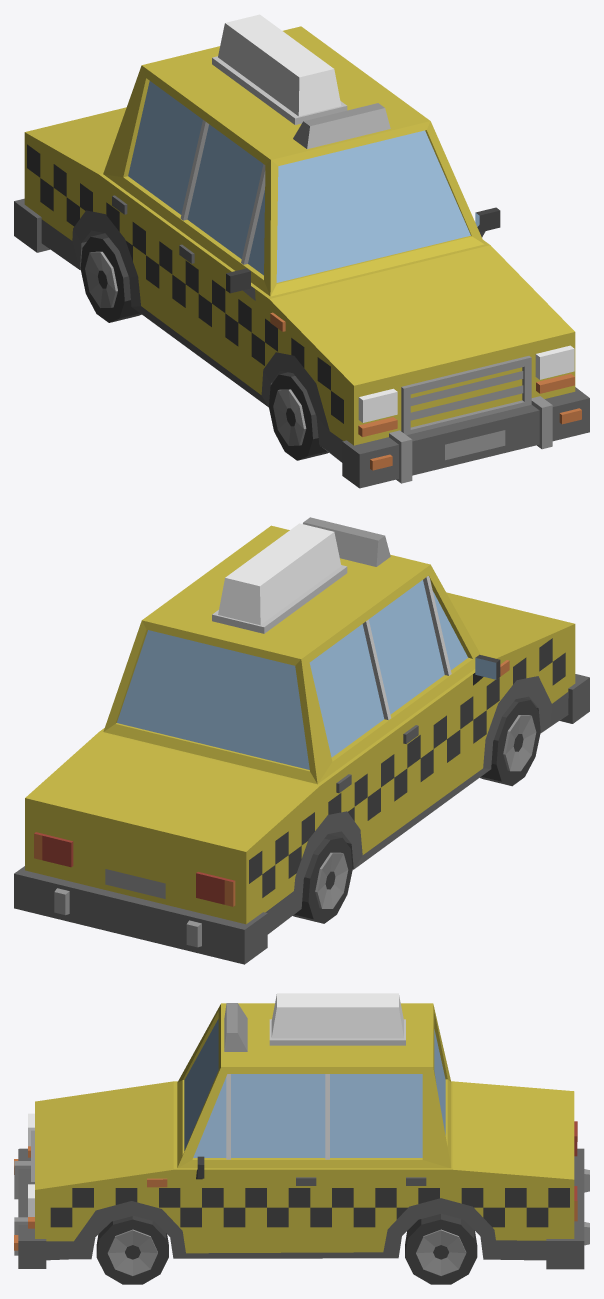
The model's file is transport_purpose_003.fbx.
3 renders of one model, top to bottom at view 1: azimuth 30°, elevation 25°; view 2: azimuth 150°, elevation 25°; view 3: azimuth 270°, elevation 25°, orthographic. The views are drawn at different scales.
Parts seen in each view (by area): view 1: transport_purpose_003; view 2: transport_purpose_003; view 3: transport_purpose_003.
Part boxes in pixels (<box>): transport_purpose_003: <box>14,14,589,488</box>; transport_purpose_003: <box>14,517,589,964</box>; transport_purpose_003: <box>14,993,589,1284</box>.
Size of the model in its own units: 148 by 152 by 333.
